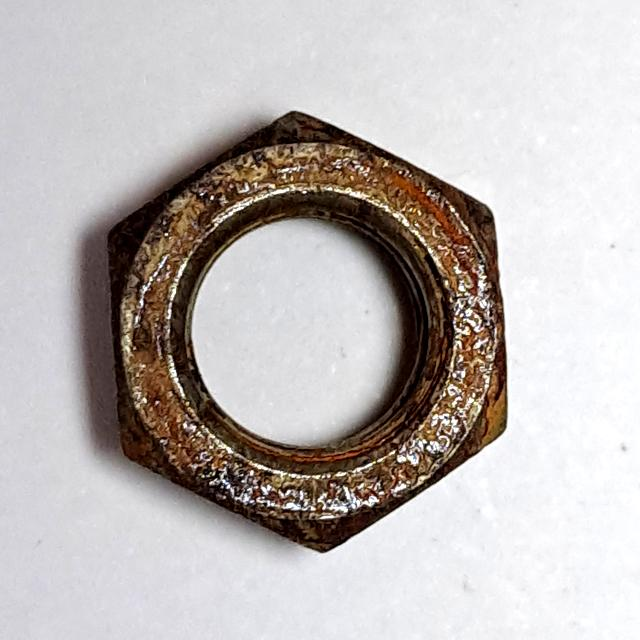Rust: (94, 98, 524, 565)
